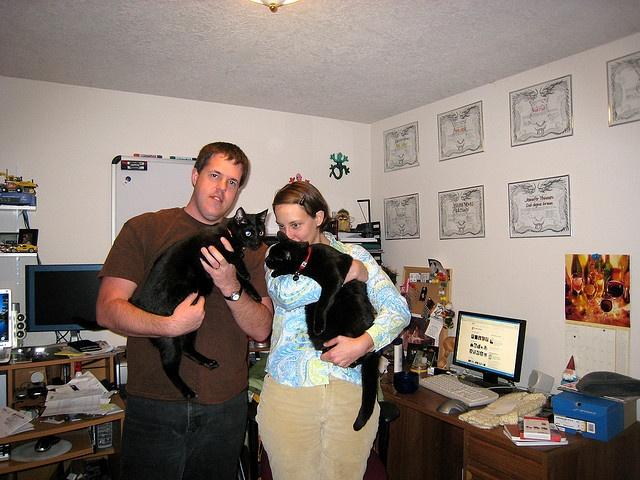AIO PC-Monitor-TV: (451, 309, 527, 382)
